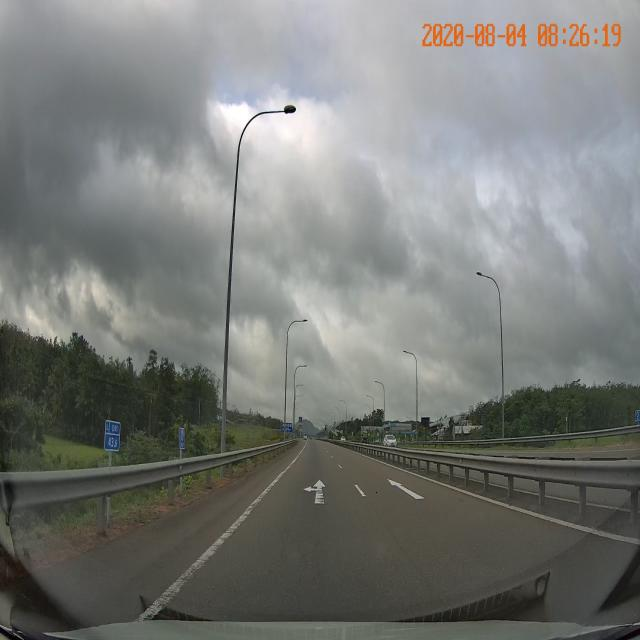forward_lft: (246, 473, 378, 513)
